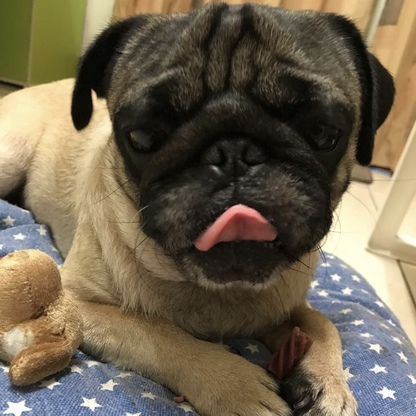Pug: (1, 1, 400, 416)
